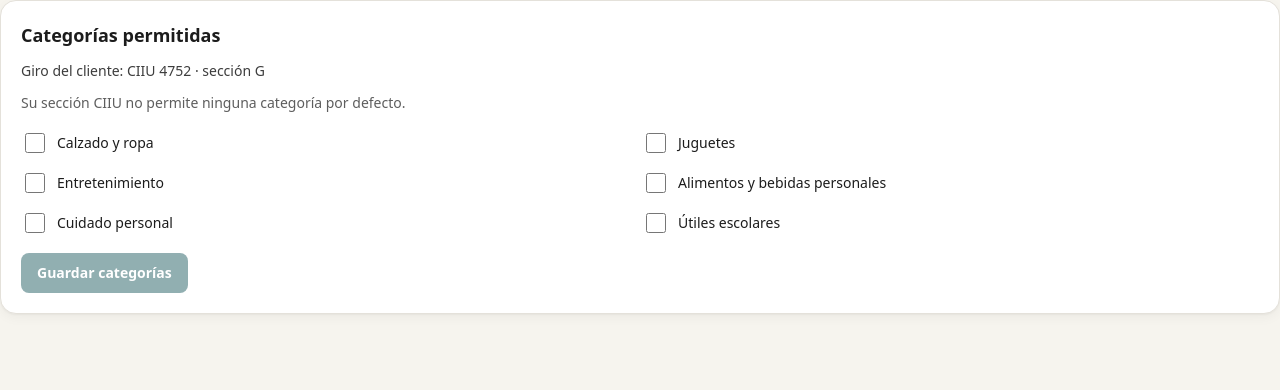
<CategoriasCliente /> · permitir y quitar (CA-1) › permitir «calzado-ropa» a la ferretería manda permitidas [calzado-ropa], quitadas [] y la versión; anuncia y vuelve a leer
expect the button "Guardar categorías" is disabled: met, box [21,253,188,293]
Step 1. Click the checkbox labelled "Calzado y ropa" → (35, 143), box [25,133,45,153]
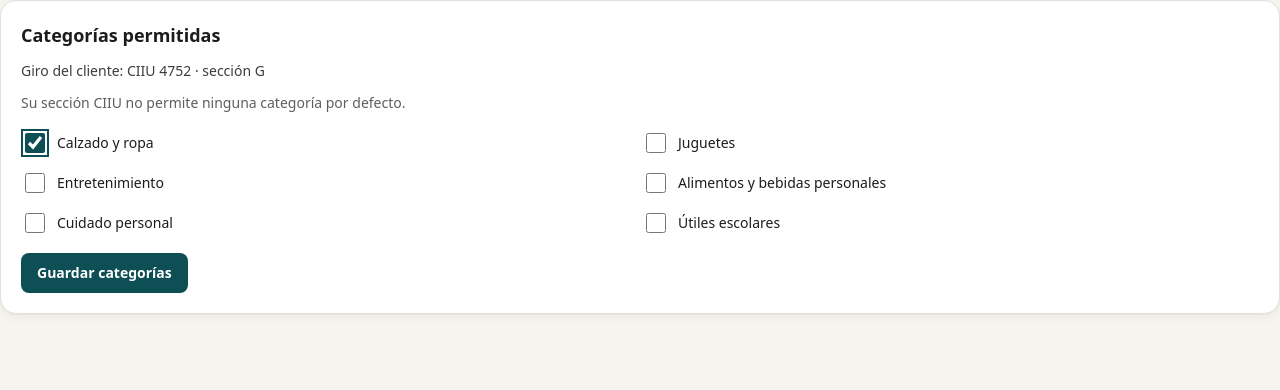
expect the checkbox labelled "Calzado y ropa" is checked: met, box [25,133,45,153]
expect the button "Guardar categorías" is enabled: met
Step 2. Click the button "Guardar categorías" → (104, 273), box [21,253,188,293]
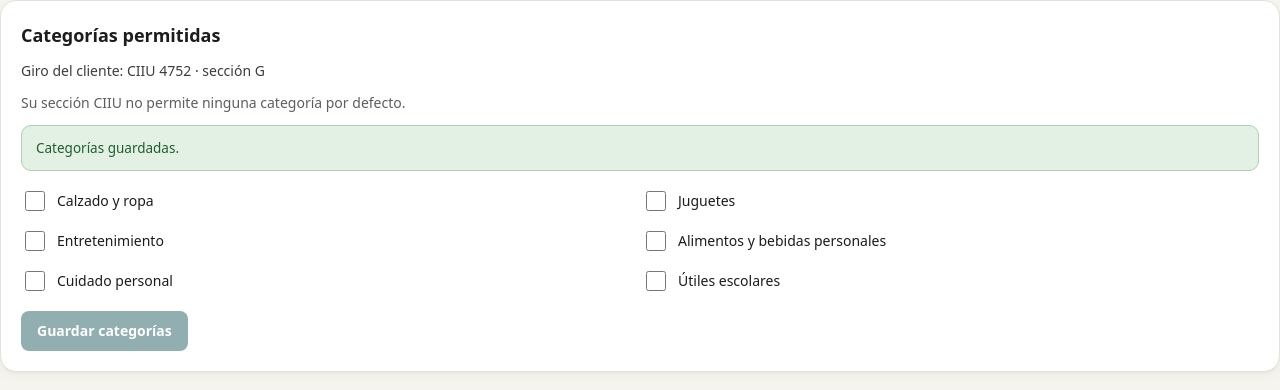
expect the message reads "Categorías guardadas.": met, box [36,139,179,157]
